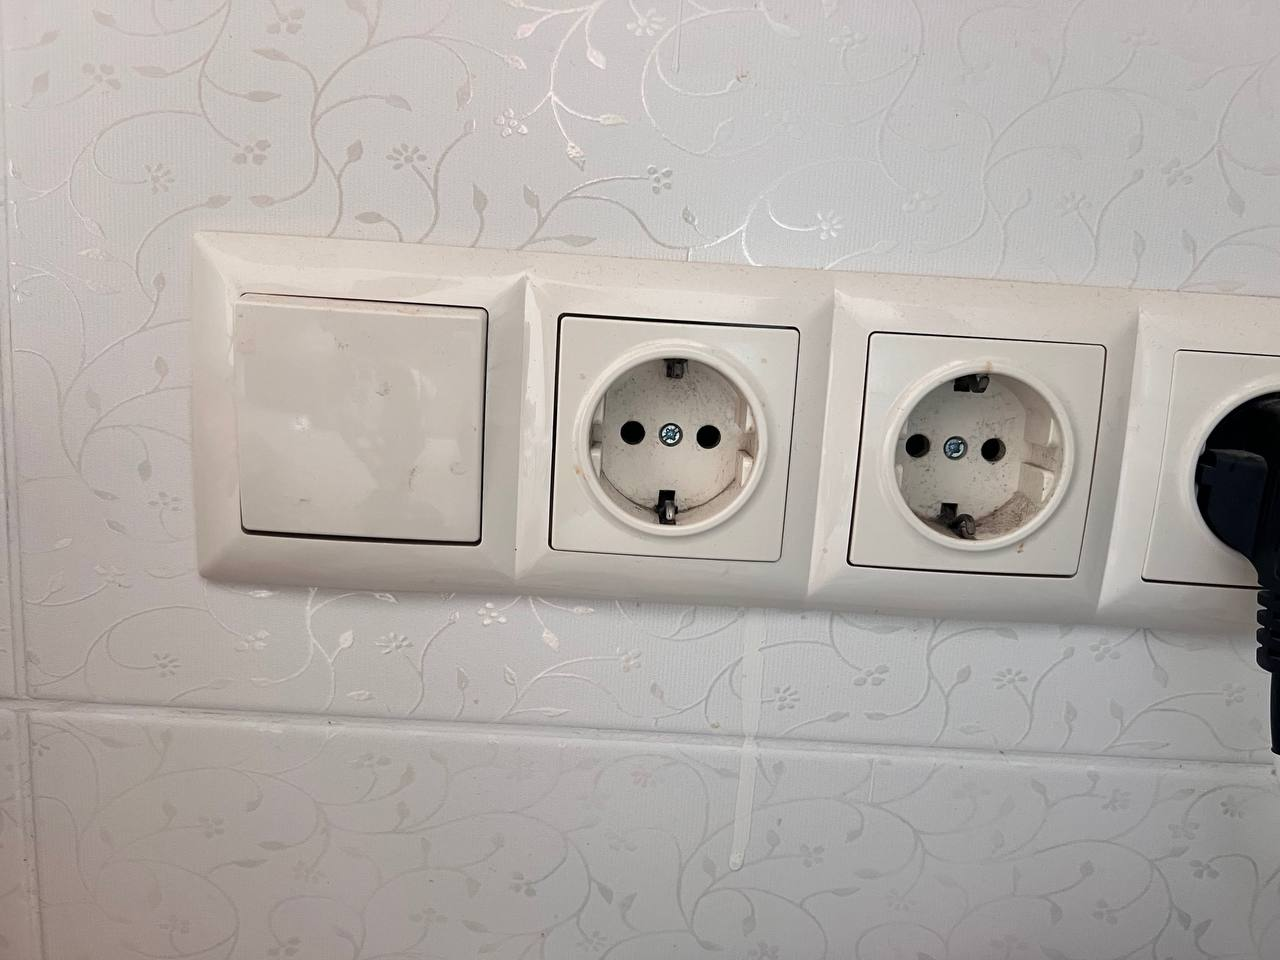Light Switcher: (183, 234, 520, 592)
Power Outlet: (524, 255, 822, 609), (819, 289, 1127, 596)
